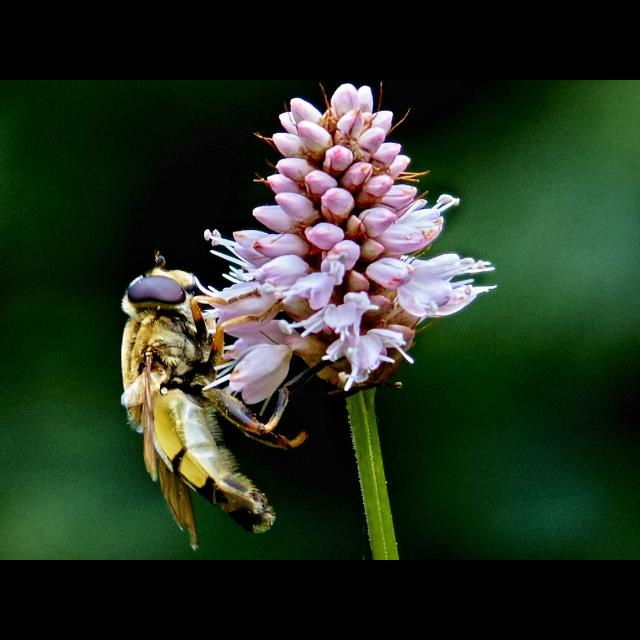Flower: (402, 250, 498, 320), (197, 272, 276, 336), (223, 344, 290, 406)
